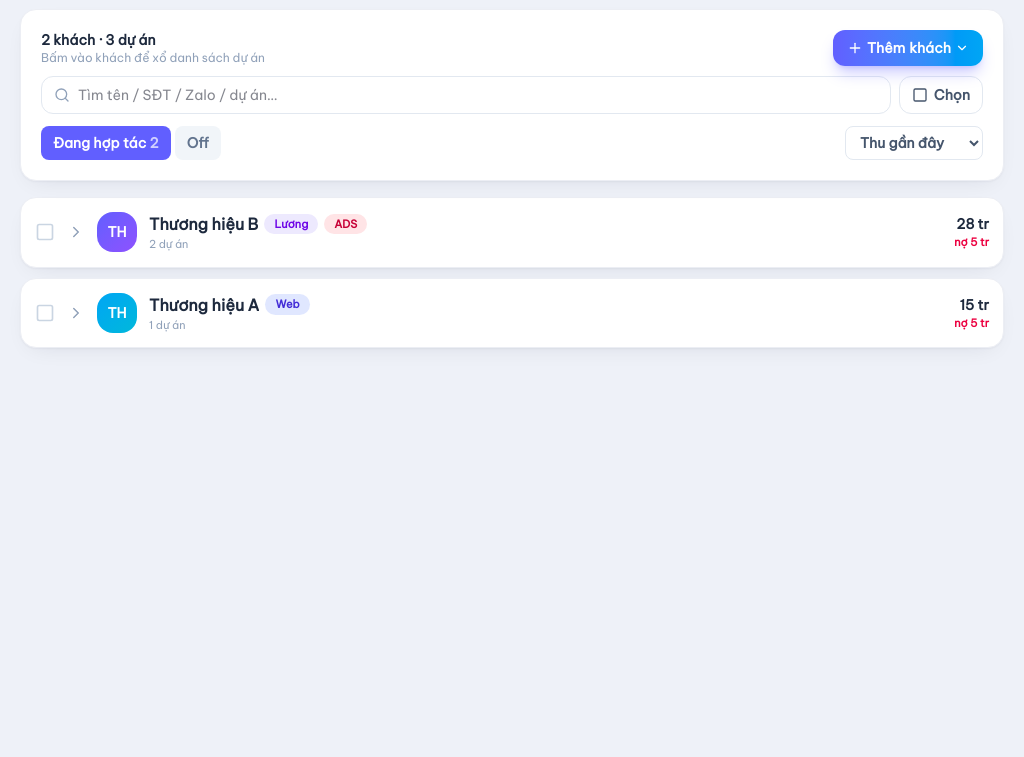
Khách · Lãi theo tháng › xổ khách → mở Lãi theo tháng → có bảng + tổng
This screenshot has width=1024, height=757.
What coordinates should you click on to do the following:
click the text "Thương hiệu A"
I would click on:
 (204, 304)
Its box is left=149, top=292, right=259, bottom=316.
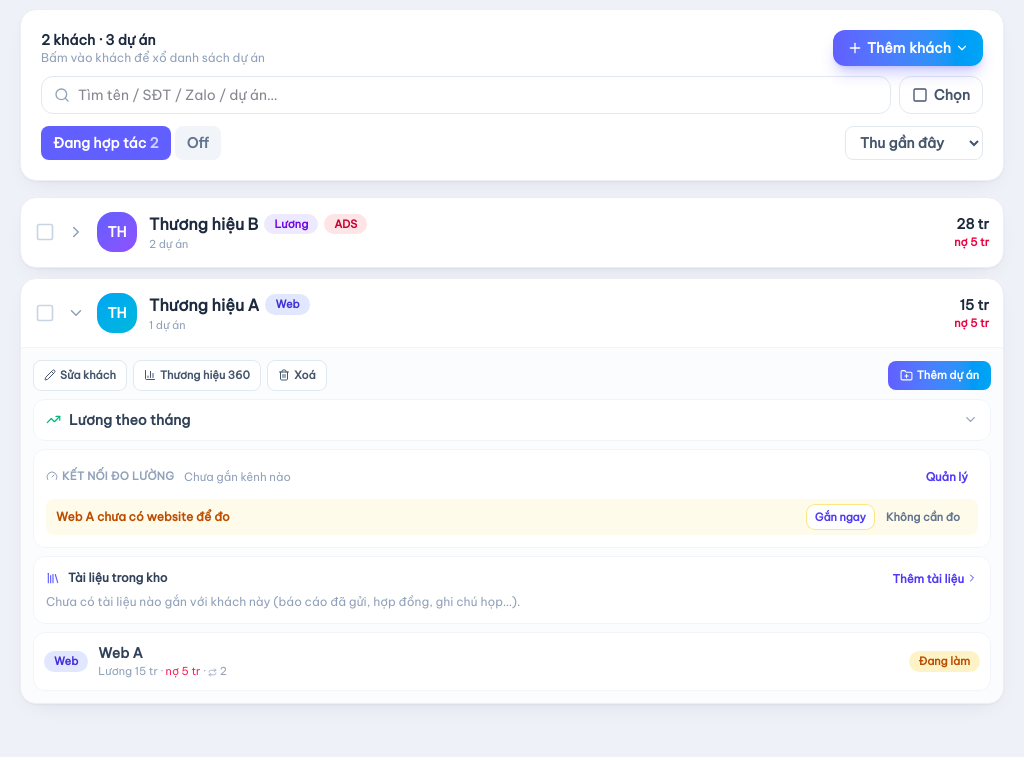
What coordinates should you click on to do the following:
click the button "Lương theo tháng"
I would click on:
 (130, 420)
Its box is left=34, top=400, right=990, bottom=440.
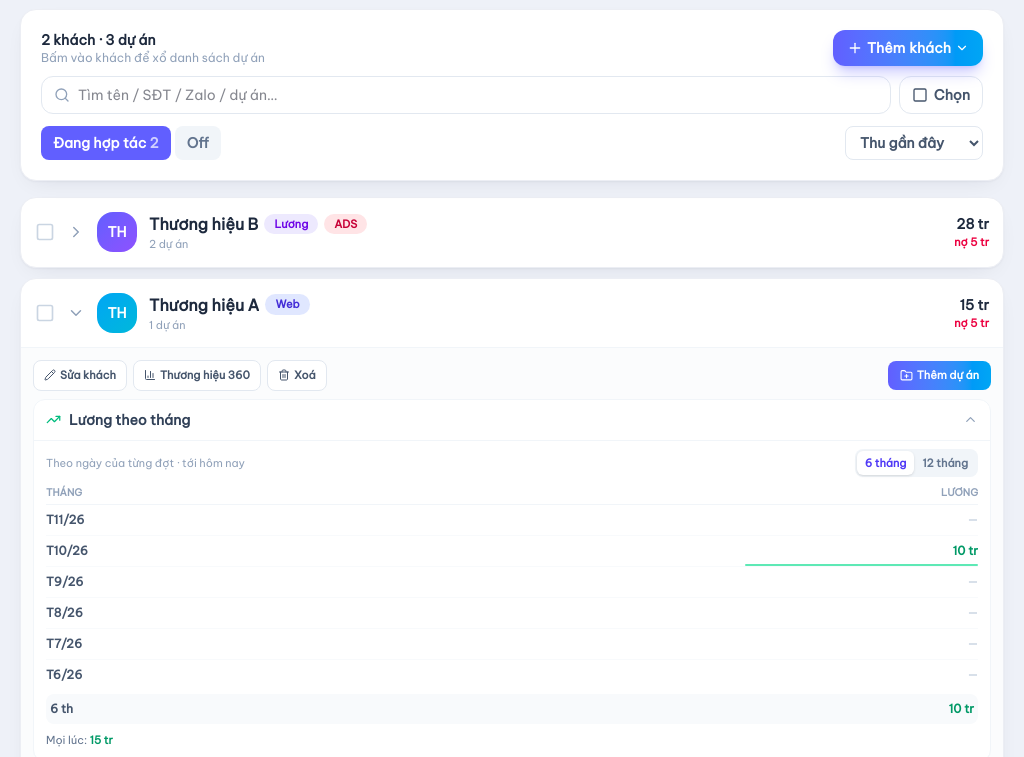
Result: the text "Mọi lúc: 15 tr" is shown at left=46, top=733, right=113, bottom=747
What coordinates should you click on to do the following:
click the button "12 tháng"
I would click on:
 (945, 463)
Its box is left=914, top=450, right=976, bottom=475.
(page scrolled)
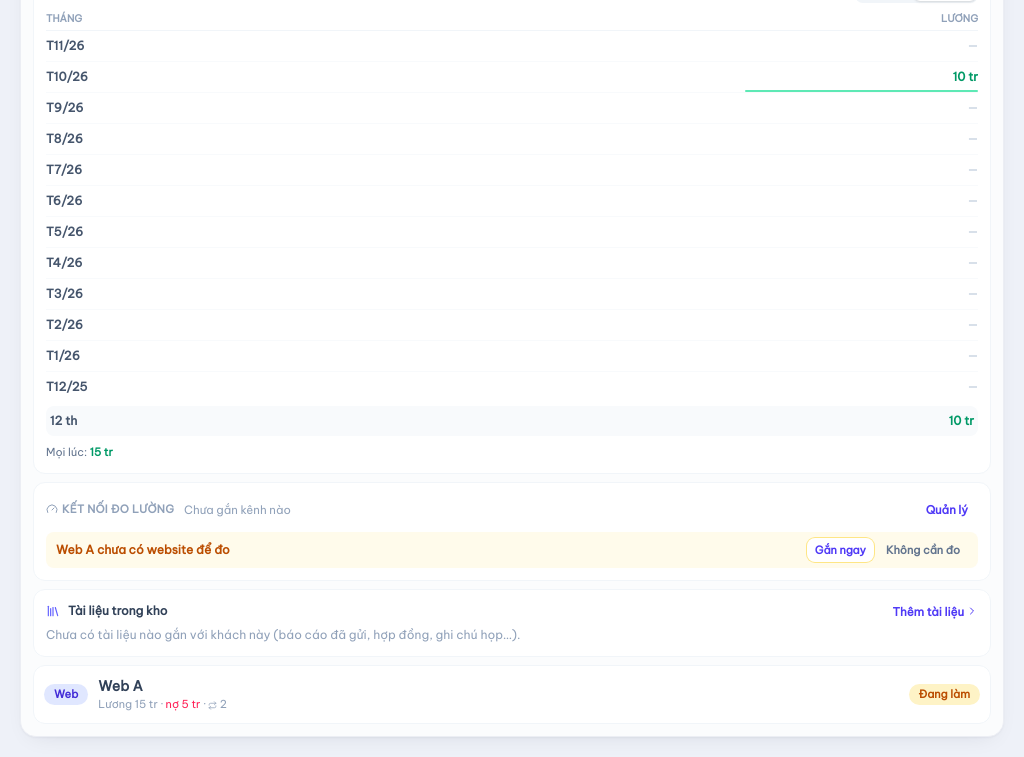
Result: the text "12 th" is shown at left=50, top=413, right=77, bottom=428
